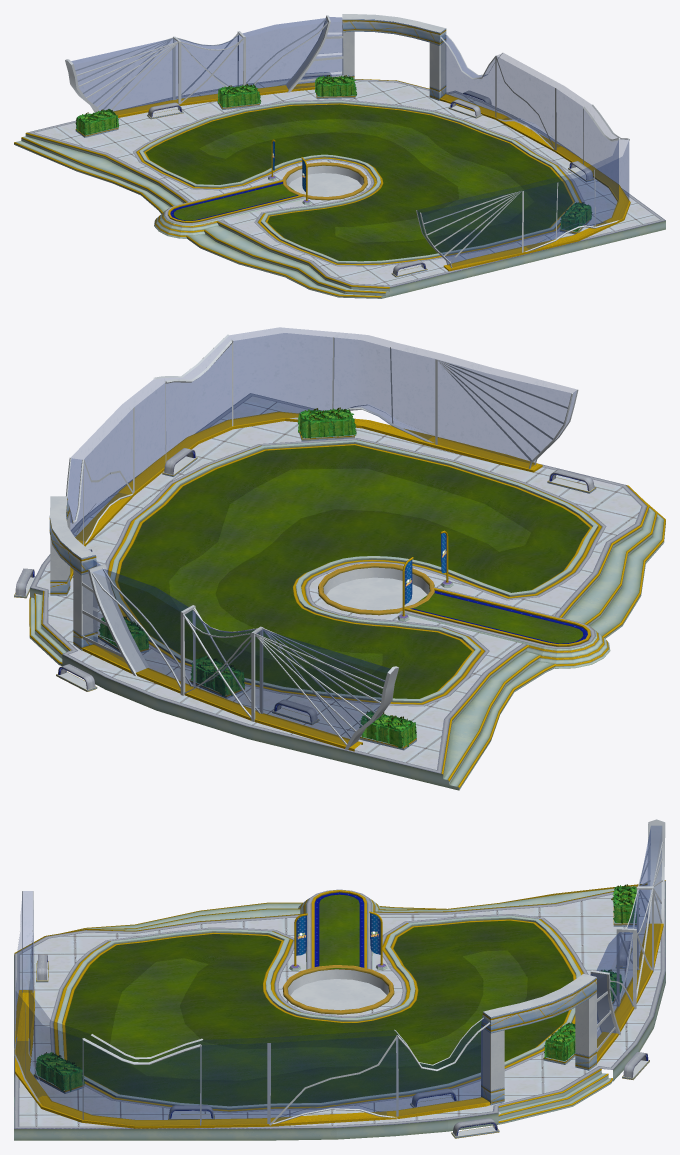
The model's file is s0_Floor0_01.gltf.
The picture shows the model from 3 angles, top to bottom: view 1: azimuth 30°, elevation 25°; view 2: azimuth 150°, elevation 25°; view 3: azimuth 270°, elevation 25°; orthographic projection. The views are drawn at different scales.
Parts seen in each view (by area): view 1: node_Floor0_GardenFloor, node_Floor0_Cristal_Basement, node_Floor0, node_floor0_Plinths, node_Floor_Spawn, node_Floor0_Vegetation, node_Floor0_Back_Entrance, node_Floor0_Benches; view 2: node_Floor0_GardenFloor, node_Floor0_Cristal_Basement, node_Floor0, node_floor0_Plinths, node_Floor_Spawn, node_Floor0_Vegetation, node_Floor0_Back_Entrance, node_Floor0_Benches, node_Floor0_Flag; view 3: node_Floor0_GardenFloor, node_Floor0_Cristal_Basement, node_Floor0, node_floor0_Plinths, node_Floor0_Back_Entrance, node_Floor_Spawn, node_Floor0_Vegetation, node_Floor0_Benches, node_Floor0_Flag.
Part boxes in pixels (<box>): node_Floor0_GardenFloor: <box>133,99,584,266</box>; node_Floor0_Cristal_Basement: <box>65,15,629,267</box>; node_Floor0: <box>14,75,665,298</box>; node_floor0_Plinths: <box>113,82,630,271</box>; node_Floor_Spawn: <box>154,179,305,238</box>; node_Floor0_Vegetation: <box>75,75,592,234</box>; node_Floor0_Back_Entrance: <box>342,14,446,100</box>; node_Floor0_Benches: <box>147,72,594,277</box>; node_Floor0_GardenFloor: <box>105,438,606,706</box>; node_Floor0_Cristal_Basement: <box>66,327,578,749</box>; node_Floor0: <box>29,393,665,790</box>; node_floor0_Plinths: <box>70,411,542,751</box>; node_Floor_Spawn: <box>399,587,610,668</box>; node_Floor0_Vegetation: <box>98,407,416,750</box>; node_Floor0_Back_Entrance: <box>49,496,97,650</box>; node_Floor0_Benches: <box>14,448,596,724</box>; node_Floor0_Flag: <box>397,530,453,621</box>; node_Floor0_GardenFloor: <box>49,914,588,1113</box>; node_Floor0_Cristal_Basement: <box>14,819,665,1125</box>; node_Floor0: <box>14,880,665,1140</box>; node_floor0_Plinths: <box>15,923,663,1128</box>; node_Floor0_Back_Entrance: <box>481,973,596,1105</box>; node_Floor_Spawn: <box>298,889,380,969</box>; node_Floor0_Vegetation: <box>33,884,639,1093</box>; node_Floor0_Benches: <box>36,940,649,1138</box>; node_Floor0_Flag: <box>289,911,387,970</box>.
Bounding box in the file's own units: 44.61 × 8.14 × 48.
